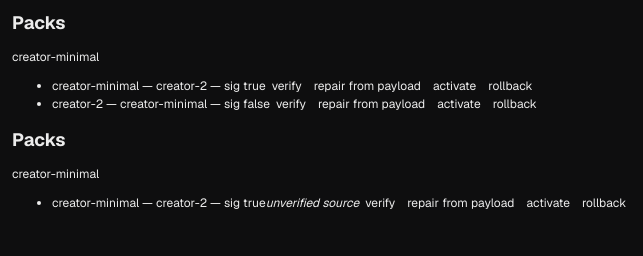
Test: PackManager › refuses an action on a non-local source
Click the button "verify" next to "unverified source": (380, 203) [359,194,401,212]
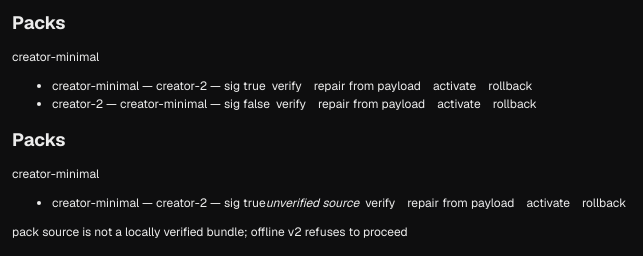
Expected: the message "pack source is not a locally verified bundle; offline v2 refuses to proceed" is shown, [12,224,408,240]
